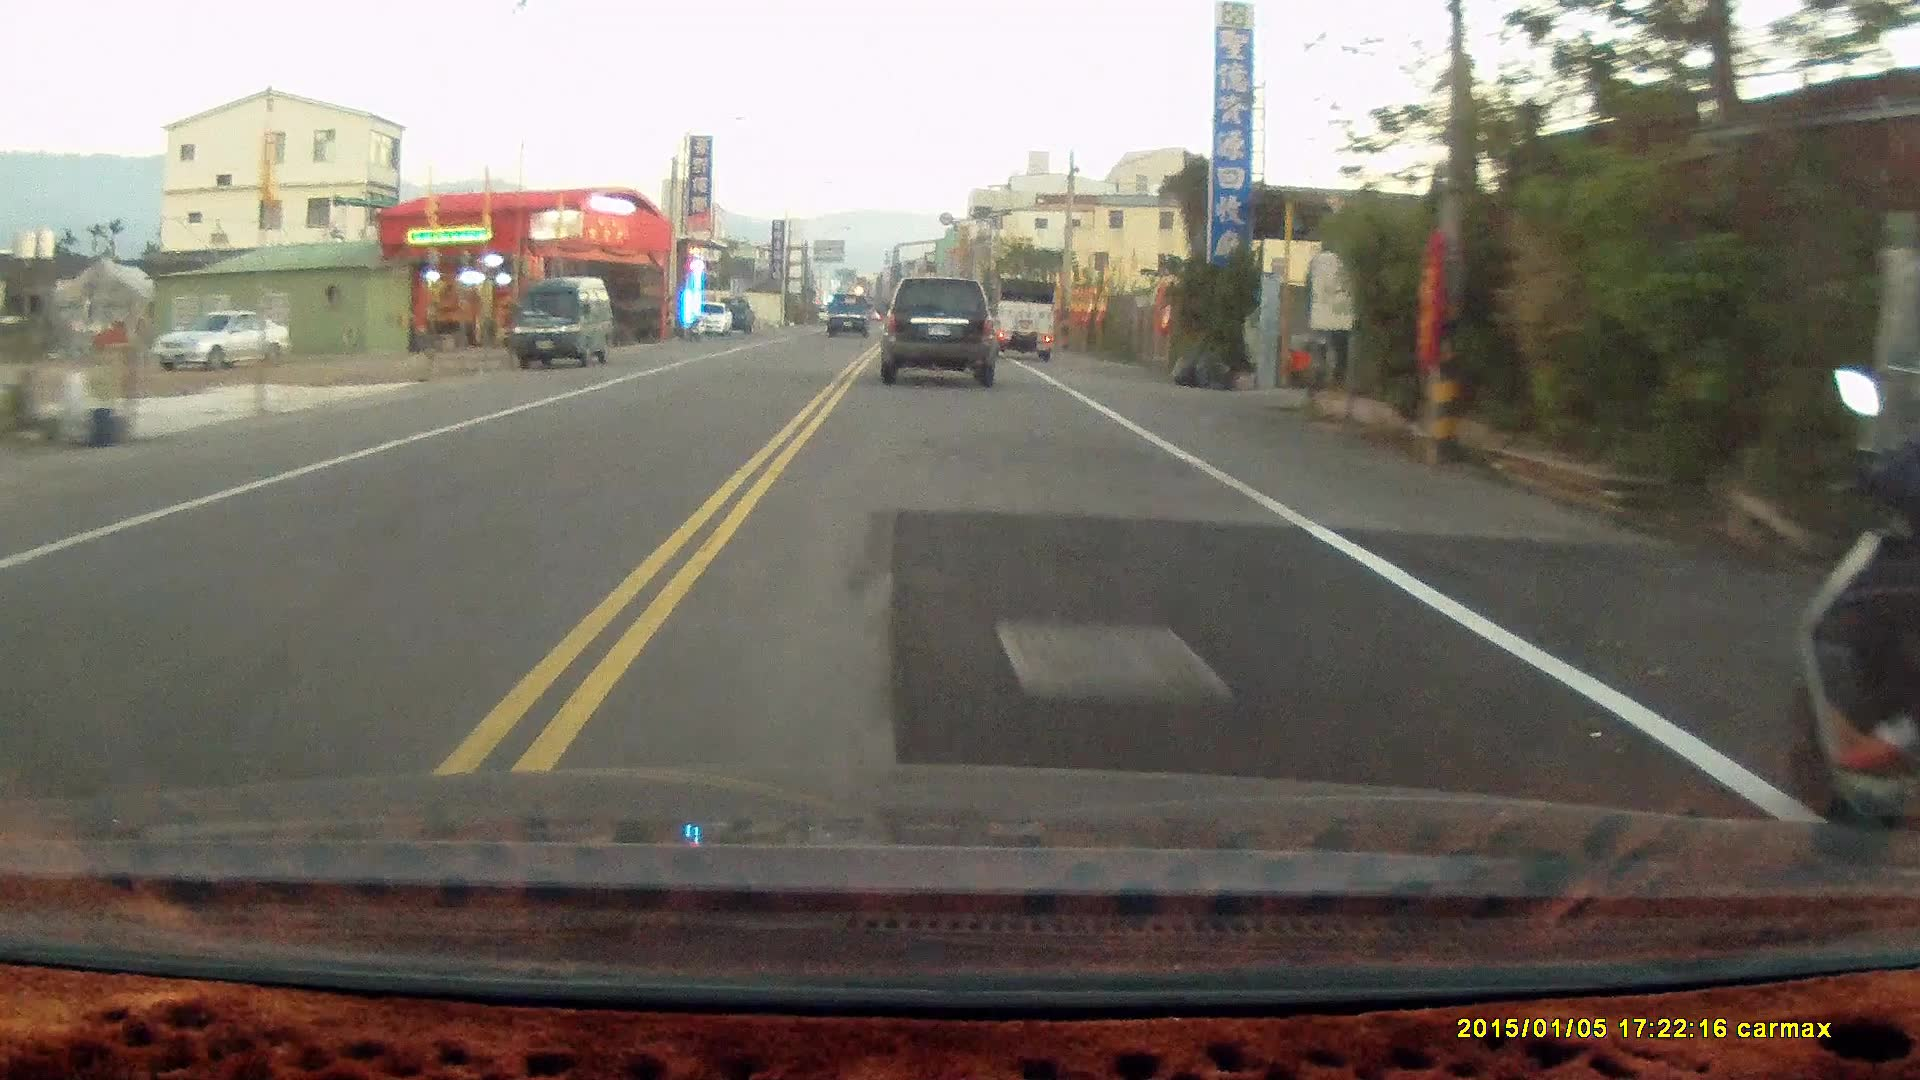rider: (1782, 313, 1920, 840)
vehicle: (871, 268, 1005, 386), (151, 305, 294, 372), (514, 277, 614, 372), (983, 276, 1059, 361), (825, 292, 876, 337)
